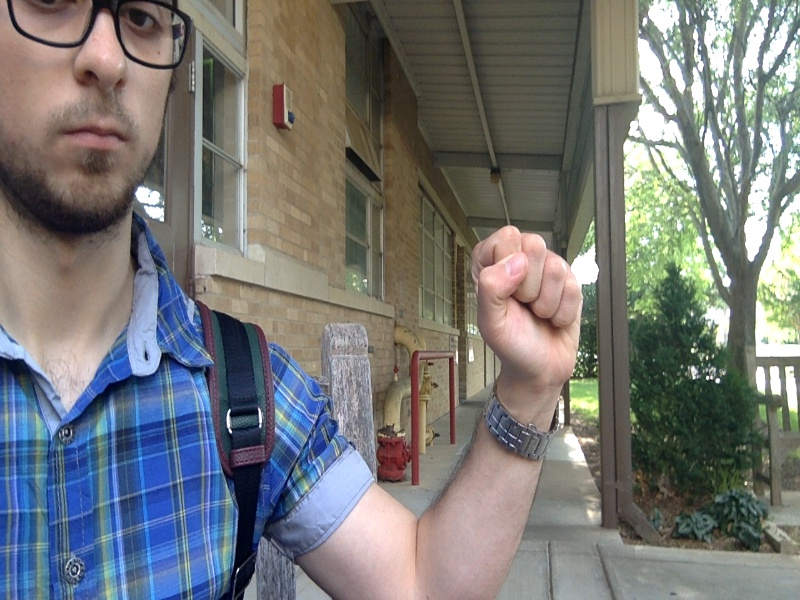0-hand: (469, 226, 584, 393)
